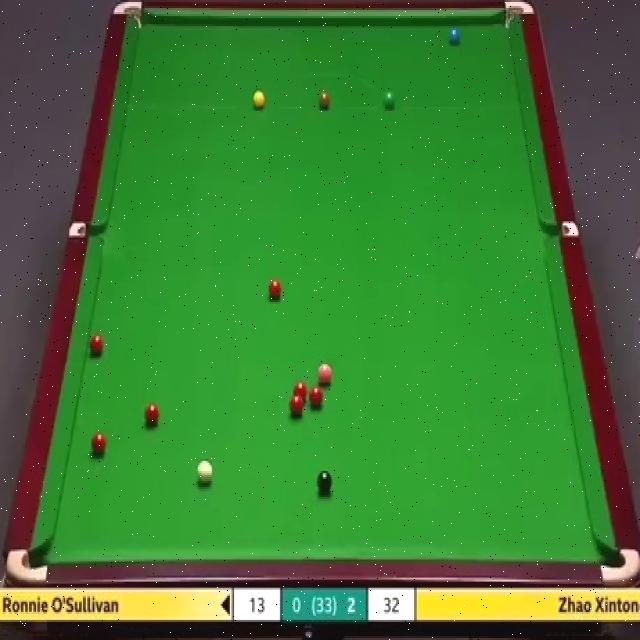black-ball: (316, 470, 333, 496)
blue-ball: (447, 22, 462, 47)
brown-ball: (318, 91, 331, 112)
green-ball: (382, 91, 397, 112)
pink-ball: (314, 363, 333, 387)
red-ball: (90, 431, 108, 459), (143, 404, 160, 430), (267, 278, 284, 302), (288, 395, 304, 419), (88, 333, 103, 358), (308, 385, 324, 408), (292, 381, 308, 402)
white-ball: (195, 458, 214, 489)
yellow-ball: (252, 90, 266, 111)
